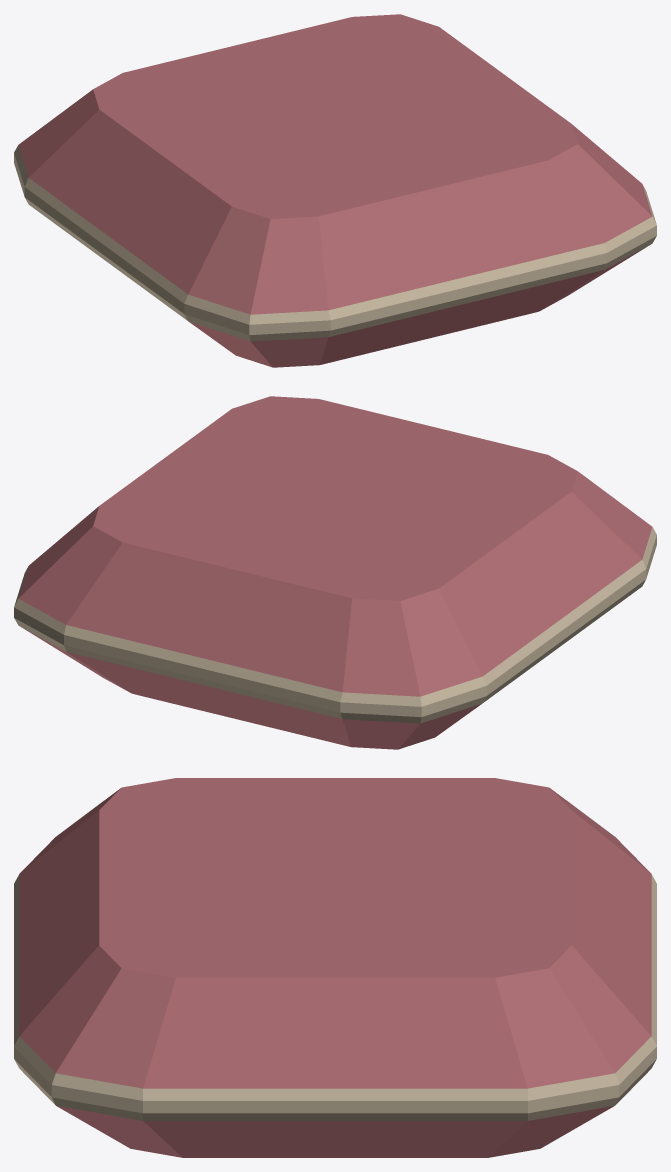
Rendered from FN_Cushion_Scatter.glb.
3 renders of one model, top to bottom at view 1: azimuth 30°, elevation 25°; view 2: azimuth 150°, elevation 25°; view 3: azimuth 270°, elevation 25°, orthographic. The views are drawn at different scales.
Visible parts, largest first — view 1: FN_Cushion_Scatter; view 2: FN_Cushion_Scatter; view 3: FN_Cushion_Scatter.
Boxes of the visible parts, x1,y1,x2,y2 form: FN_Cushion_Scatter: (14, 14, 656, 367); FN_Cushion_Scatter: (14, 396, 656, 749); FN_Cushion_Scatter: (14, 778, 656, 1157).
Size of the model in its own units: 0.468 by 0.148 by 0.468.
1 material, 1 textured.
